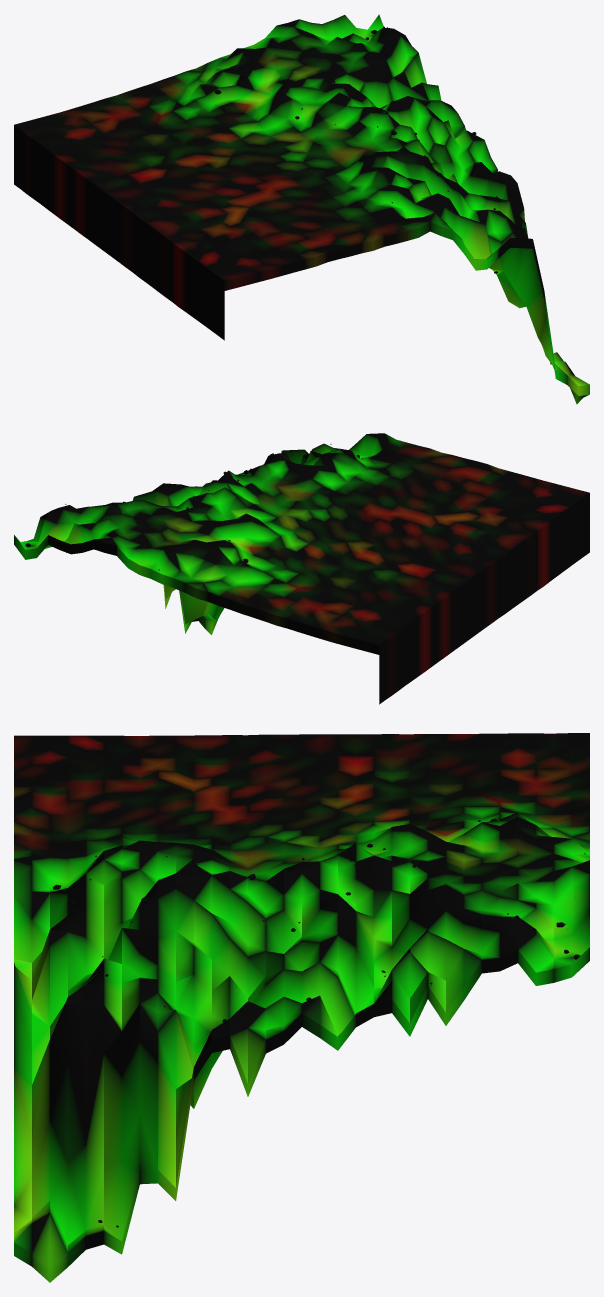
The model's file is Terrain_02_07.fbx.
3 views of the same model, one above another, from view 1: azimuth 30°, elevation 25°; view 2: azimuth 150°, elevation 25°; view 3: azimuth 270°, elevation 25° (orthographic). The views are drawn at different scales.
Parts seen in each view (by area): view 1: Terrain_02_07_LOD0; view 2: Terrain_02_07_LOD0; view 3: Terrain_02_07_LOD0.
Part boxes in pixels (x1,y1,x2,y2): Terrain_02_07_LOD0: (14,14,589,404); Terrain_02_07_LOD0: (14,433,589,704); Terrain_02_07_LOD0: (14,733,589,1282).
Size of what is drawn, in the model's own units: 384 by 262 by 384.
